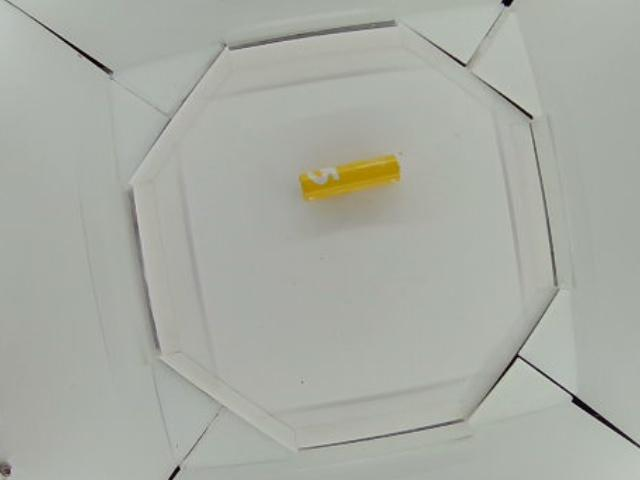Battery: (298, 155, 400, 197)
